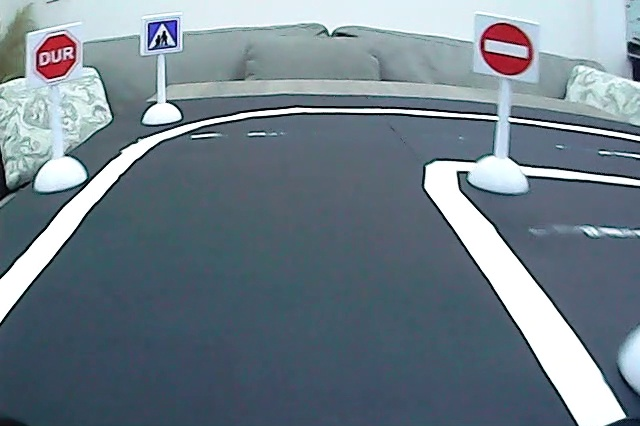do not enter: (476, 20, 536, 78)
school crossing: (144, 18, 181, 55)
stop sign: (31, 30, 81, 83)
